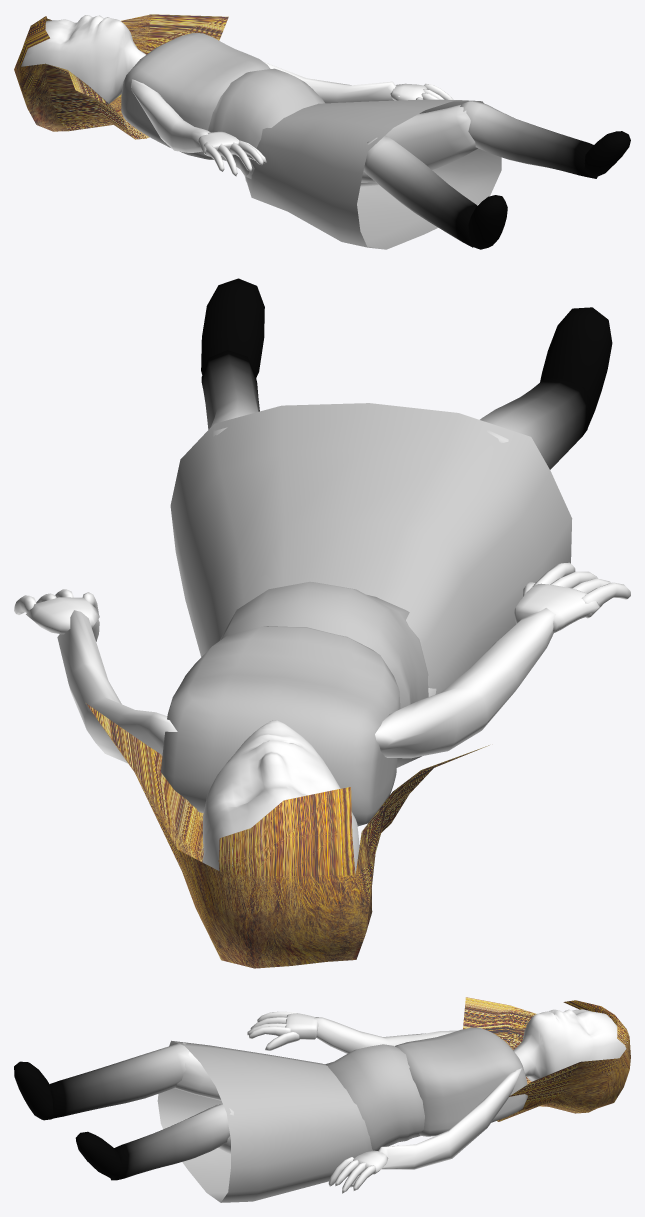
The model's file is SM_Agrafena00.fbx.
The picture shows the model from 3 angles, top to bottom: view 1: azimuth 30°, elevation 25°; view 2: azimuth 150°, elevation 25°; view 3: azimuth 270°, elevation 25°; orthographic projection. The views are drawn at different scales.
Parts seen in each view (by area): view 1: SM_Agrafena00; view 2: SM_Agrafena00; view 3: SM_Agrafena00.
Boxes of the visible parts, <box> form: SM_Agrafena00: <box>14,14,630,249</box>; SM_Agrafena00: <box>14,278,630,968</box>; SM_Agrafena00: <box>14,997,630,1202</box>.
Size of the model in its own units: 143 by 49.17 by 230.
